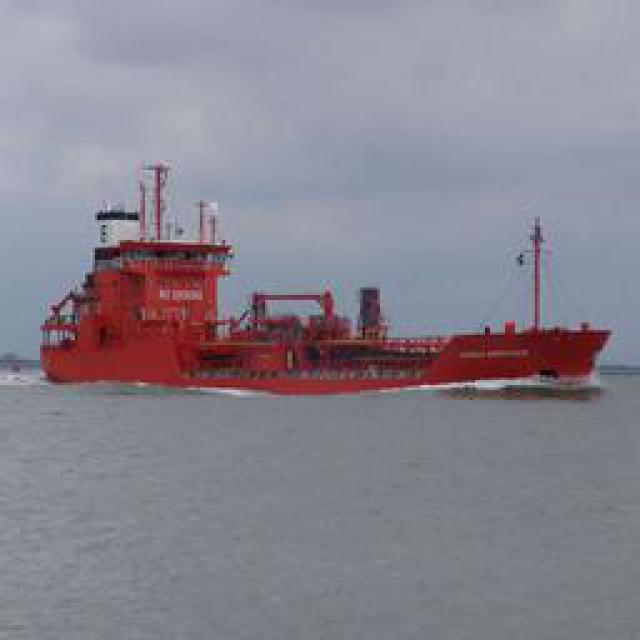Ship: (40, 155, 615, 395)
